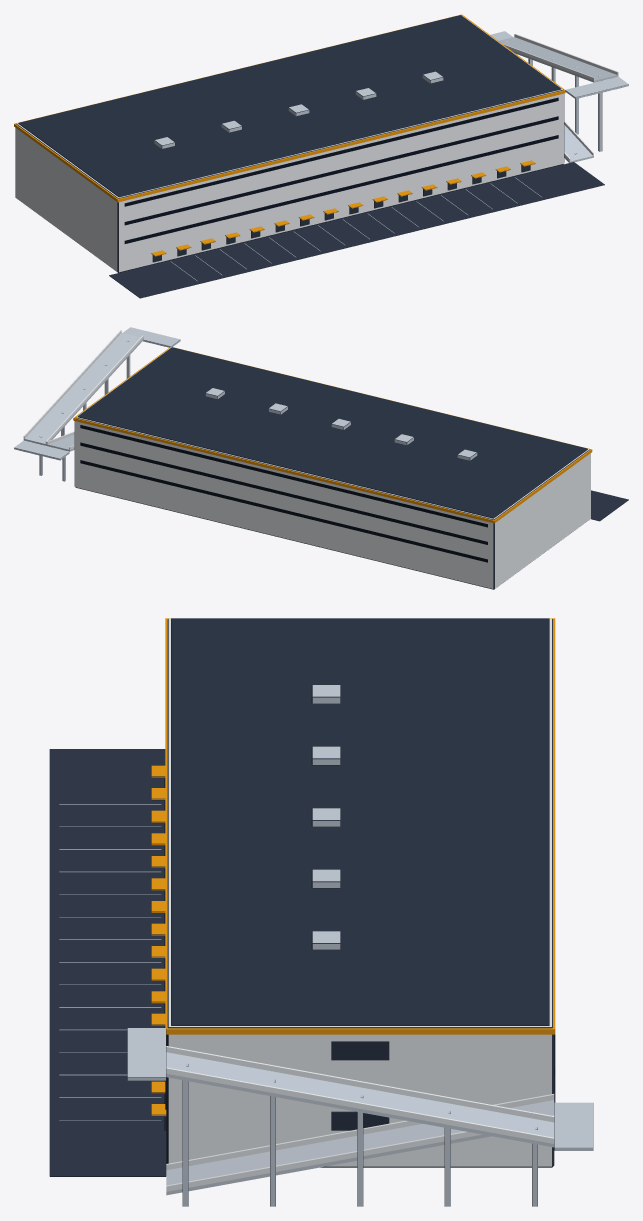
The model's file is warehouse.glb.
3 renders of one model, top to bottom at view 1: azimuth 30°, elevation 25°; view 2: azimuth 150°, elevation 25°; view 3: azimuth 270°, elevation 25°, orthographic. The views are drawn at different scales.
Parts seen in each view (by area): view 1: warehouse; view 2: warehouse; view 3: warehouse.
Boxes of the visible parts, <box> form: warehouse: <box>14,14,628,298</box>; warehouse: <box>14,327,628,589</box>; warehouse: <box>49,618,593,1206</box>.
Bounding box in the file's own units: 228 × 34 × 112.
